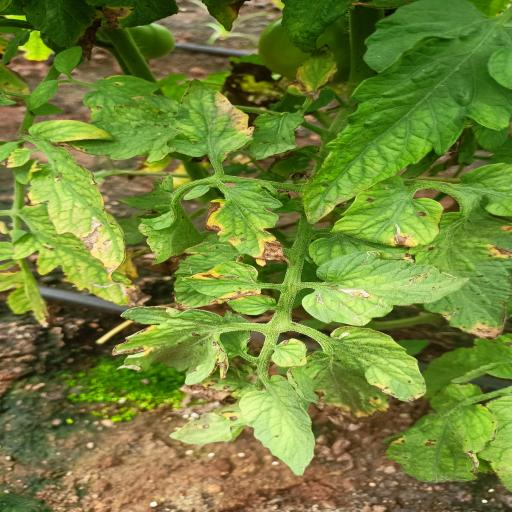Early Blight: (21, 148, 128, 283), (300, 249, 474, 326), (110, 305, 235, 387), (197, 183, 293, 268), (163, 78, 257, 158), (339, 179, 443, 250), (177, 260, 264, 302)
